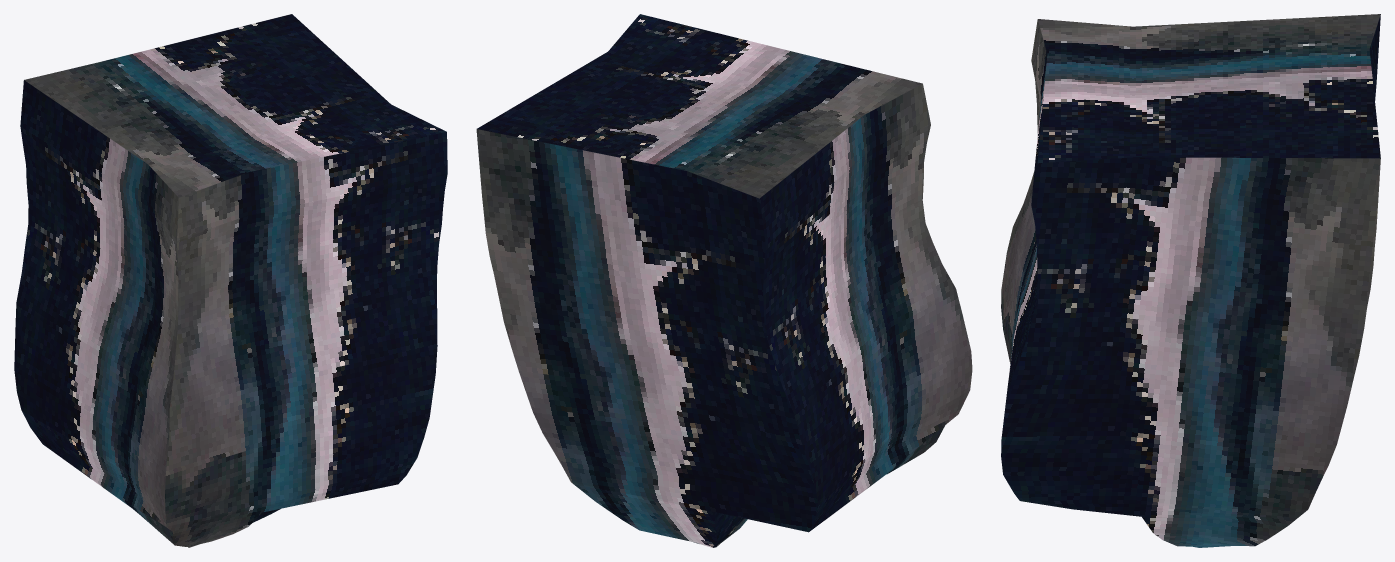
The picture shows the model from 3 angles, left to right: view 1: azimuth 30°, elevation 25°; view 2: azimuth 150°, elevation 25°; view 3: azimuth 270°, elevation 25°; orthographic projection. The views are drawn at different scales.
Visible parts, largest first — view 1: SPLICE_1; view 2: SPLICE_1; view 3: SPLICE_1.
Part boxes in pixels (x1,y1,x2,y2): SPLICE_1: (14, 14, 447, 547); SPLICE_1: (476, 14, 972, 547); SPLICE_1: (1001, 14, 1380, 547).
Size of the model in its own units: 1.05 by 1.43 by 1.05.
Materials: 1 (1 with a texture image).
